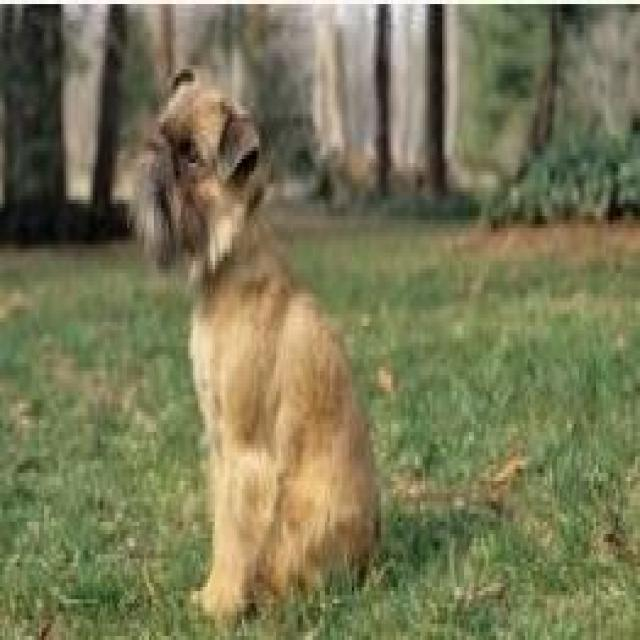Perro: (120, 66, 383, 624)
